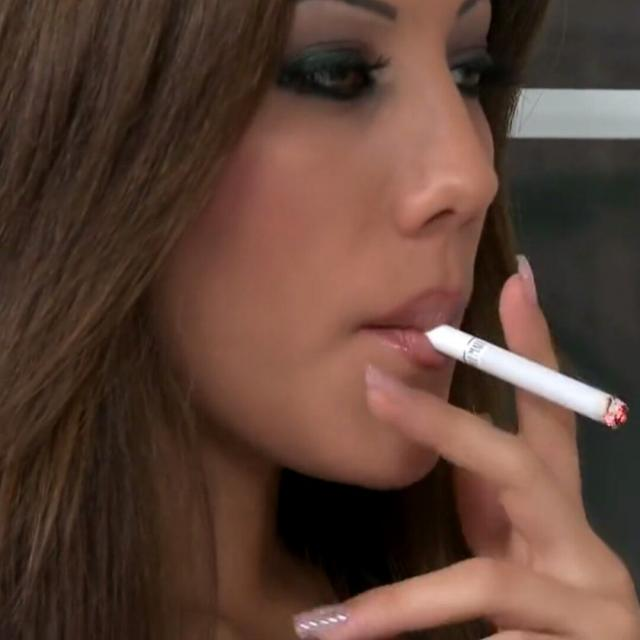cigarette: (425, 318, 630, 435)
